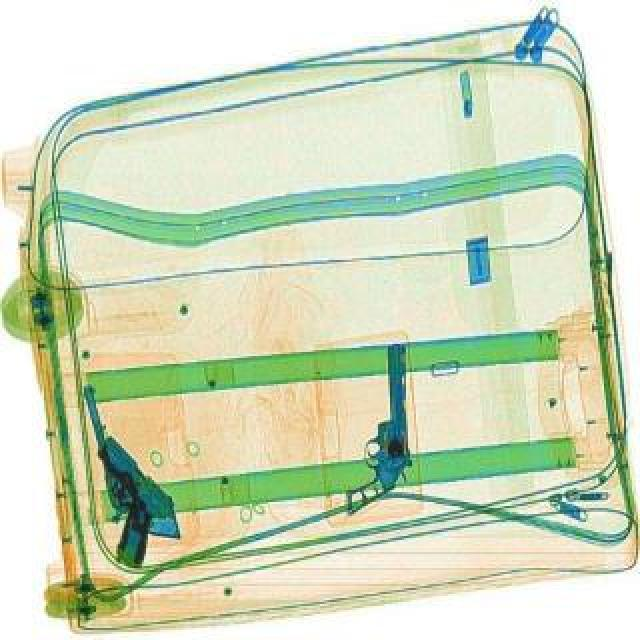gun: (60, 378, 164, 574), (344, 334, 428, 522), (80, 434, 196, 550)
